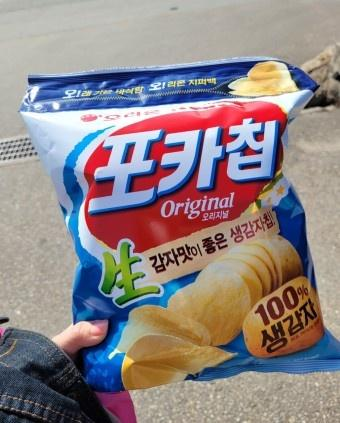snack: (16, 55, 340, 394)
